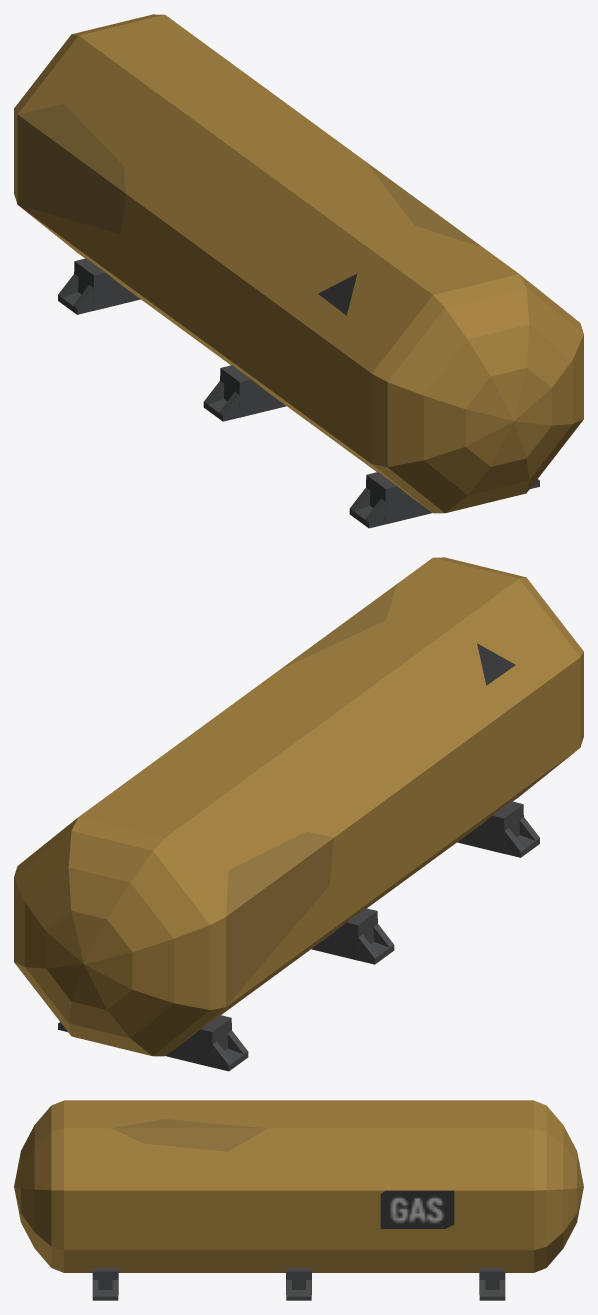
Rendered from SM_Props_Industrial_GasTank_01.fbx.
The picture shows the model from 3 angles, top to bottom: view 1: azimuth 30°, elevation 25°; view 2: azimuth 150°, elevation 25°; view 3: azimuth 270°, elevation 25°; orthographic projection. The views are drawn at different scales.
Parts seen in each view (by area): view 1: SM_Props_Industrial_GasTank_01; view 2: SM_Props_Industrial_GasTank_01; view 3: SM_Props_Industrial_GasTank_01.
Part boxes in pixels (x1,y1,x2,y2): SM_Props_Industrial_GasTank_01: (14, 14, 583, 528); SM_Props_Industrial_GasTank_01: (14, 557, 583, 1071); SM_Props_Industrial_GasTank_01: (14, 1100, 583, 1300).
Size of the model in its own units: 185 by 202 by 660.
